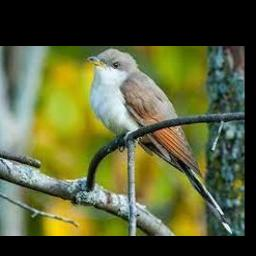Cuckoo: (88, 47, 235, 236)
